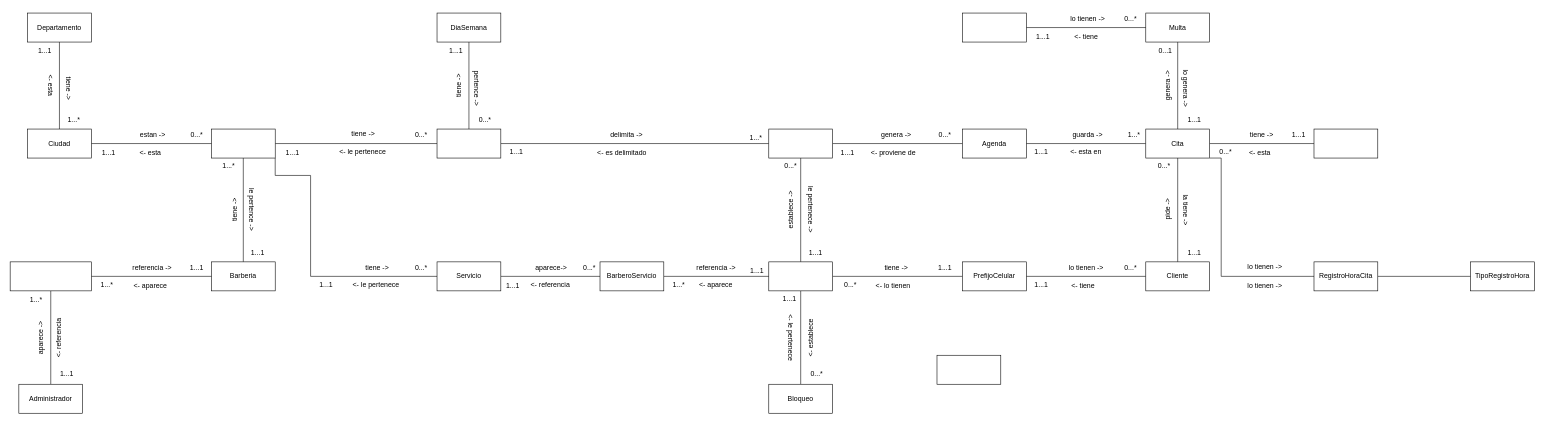
This 1545x423 diagram has some shape labels left out. The shapes that lost their labels are listed below. From the top down, each one's centre as x and y in pixels, then its label:
(x=994, y=27): TipoMulta
(x=243, y=143): Sede
(x=468, y=143): HorarioBarberia
(x=800, y=143): HorarioBarbero
(x=1345, y=143): Estado
(x=50, y=276): AdministradorBarberia
(x=800, y=276): Barbero
(x=968, y=369): CitaServicio
